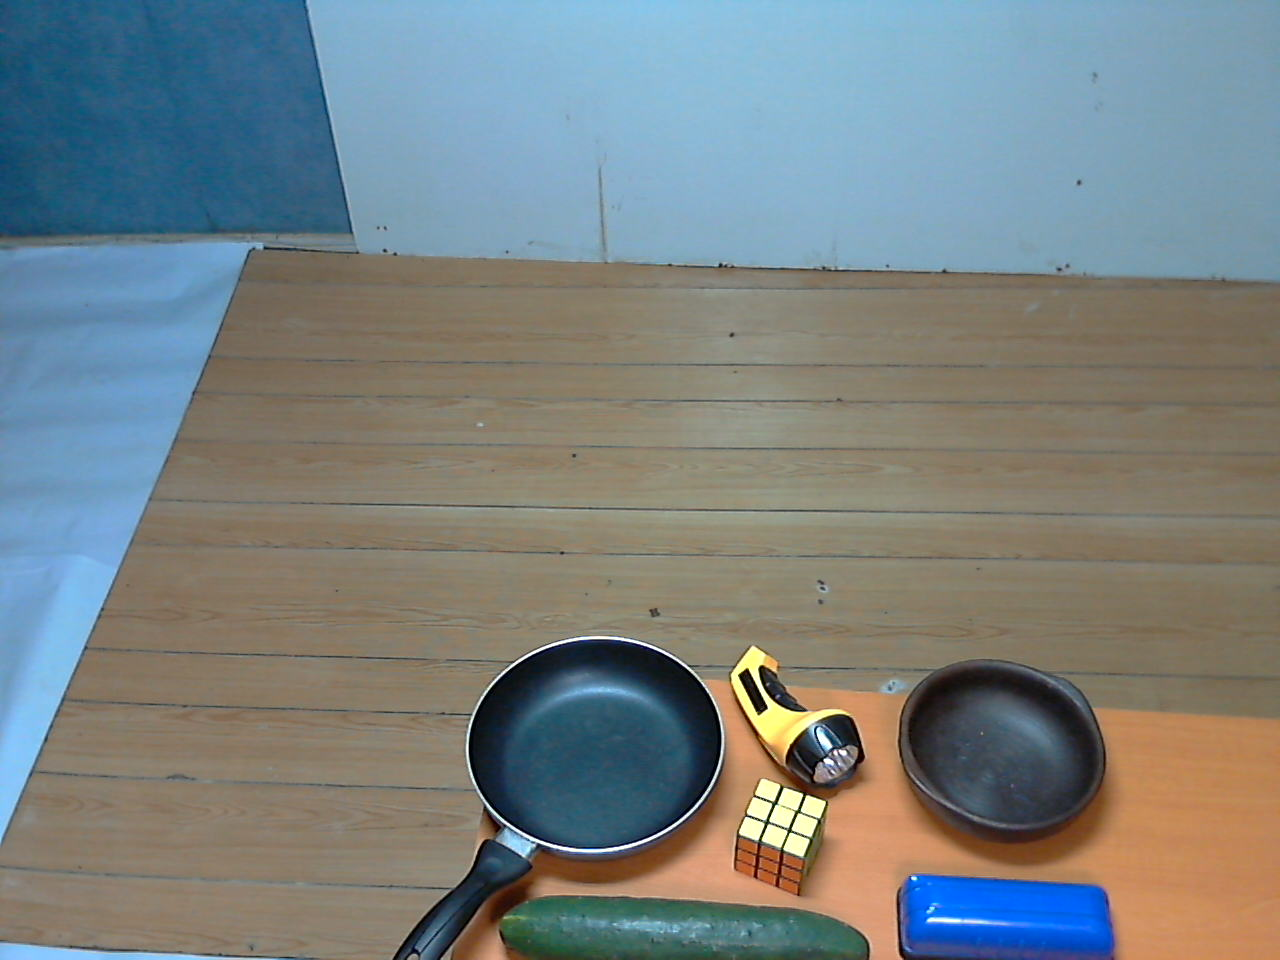borrador: (870, 857, 1131, 960)
cubix: (724, 773, 833, 898)
greda: (892, 638, 1123, 854)
linterna: (716, 636, 879, 814)
pepino: (482, 860, 886, 960)
sarten: (355, 617, 741, 960)
